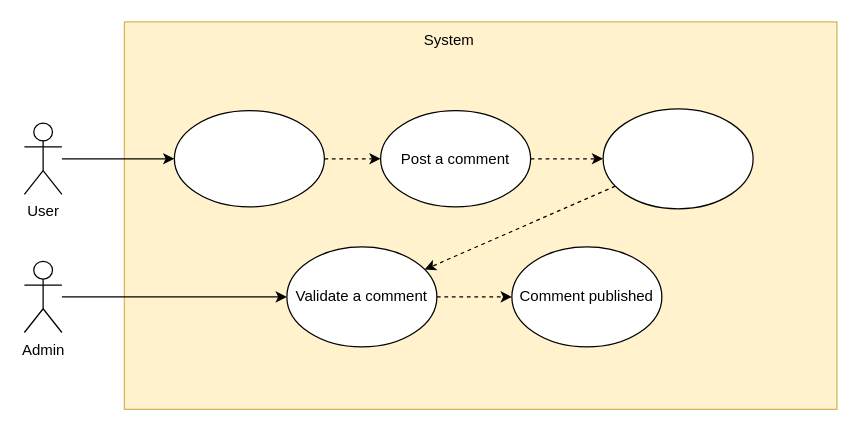
Image size: 859x431. Some labels were removed from this diagram. Here are the shapes that lost their labels. From the top down, the centre of each, then its label:
the point at 248,158: log in
the point at 677,158: Waiting for validation
